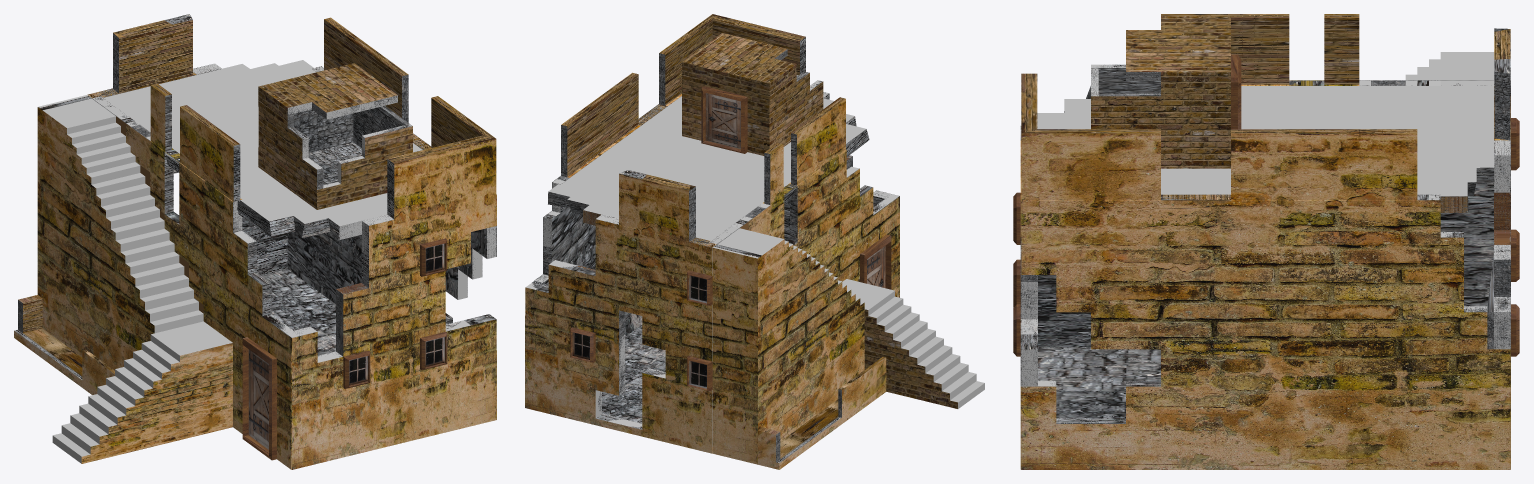
The model's file is sumerian_house_derruido.fbx.
3 renders of one model, left to right at view 1: azimuth 30°, elevation 25°; view 2: azimuth 150°, elevation 25°; view 3: azimuth 270°, elevation 25°, orthographic. The views are drawn at different scales.
Visible parts, largest first — view 1: Cube; view 2: Cube; view 3: Cube.
Boxes of the visible parts, bbox=[...] form: Cube: bbox=[14, 14, 496, 469]; Cube: bbox=[525, 14, 984, 469]; Cube: bbox=[1013, 14, 1519, 469].
Size of the model in its own units: 1402 by 1150 by 1440.
